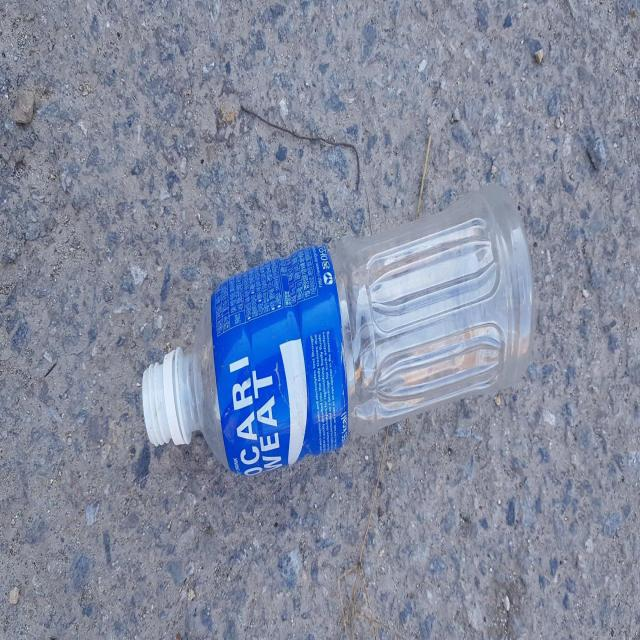plastic: (142, 184, 535, 476)
